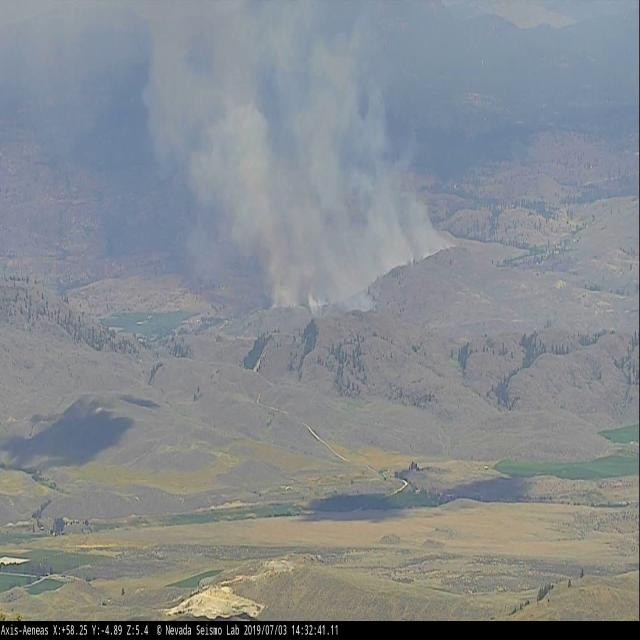smoke: (129, 0, 464, 313)
